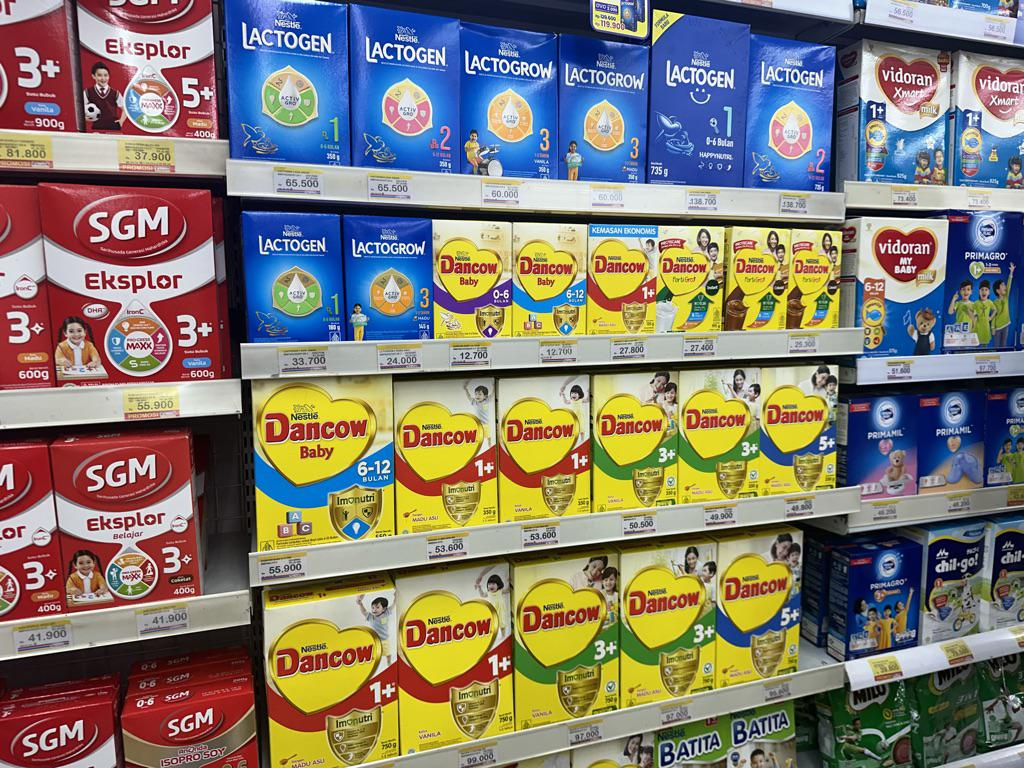DANCOW 1+ Madu Advn ExcNutr 12x800g ID_REDESIGN3: (267, 598, 401, 765)
DANCOW 1+ Madu Advn ExcNutr 24x400g N1 ID_REDESIGN3: (392, 378, 498, 528)
DANCOW 1+ Madu Advn ExcNutr 40x200g ID_REDESIGN3: (588, 238, 657, 334)
DANCOW 1+ Van Advn ExcNutr 12x800g N1 ID_REDESIGN3: (398, 571, 516, 744)
DANCOW 1+ Van Advn ExcNutr 24x400g ID_REDESIGN3: (498, 377, 592, 519)
DANCOW 3+ Madu Advn ExcNutr 12x800g ID_REDESIGN3: (620, 547, 718, 701)
DANCOW 3+ Madu Advn ExcNutr 24x400g ID_REDESIGN3: (678, 370, 761, 500)
DANCOW 3+ Van Advn ExcNutr 12x800g ID_REDESIGN3: (515, 562, 621, 722)
DANCOW 3+ Van Advn ExcNutr 24x400g ID_REDESIGN3: (592, 375, 679, 508)
DANCOW 5+ Madu Advn ExcNutr 12x800g ID_REDESIGN3: (716, 534, 803, 681)
DANCOW 5+ Madu Advn ExcNutr 24x400g ID_REDESIGN3: (761, 367, 839, 491)
LACTOGEN 1 Happynutri 24x350g N1 ID_REDESIGN2: (225, 0, 352, 168)
LACTOGEN 1 Happynutri 40x180g N1 ID_REDESIGN2: (243, 209, 342, 342)
LACTOGEN 2 Happynutri 12x750g N1 ID_REDESIGN2: (743, 40, 835, 192)
LACTOGEN 2 Happynutri 24x350g N1 ID_REDESIGN2: (352, 10, 462, 173)
LACTOGROW 3 Happynutri Honey 24x350g N1 ID_REDESIGN2: (557, 44, 648, 184)
LACTOGROW 3 Happynutri Honey 40x180g N1 ID_REDESIGN2: (345, 216, 434, 340)
LACTOGROW 3 Happynutri Van 24x350g N1 ID_REDESIGN2: (460, 28, 559, 180)
